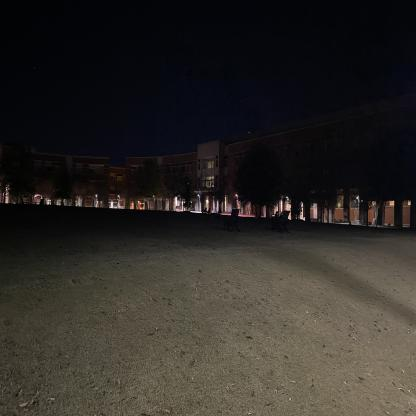eb3: (121, 101, 415, 223)
